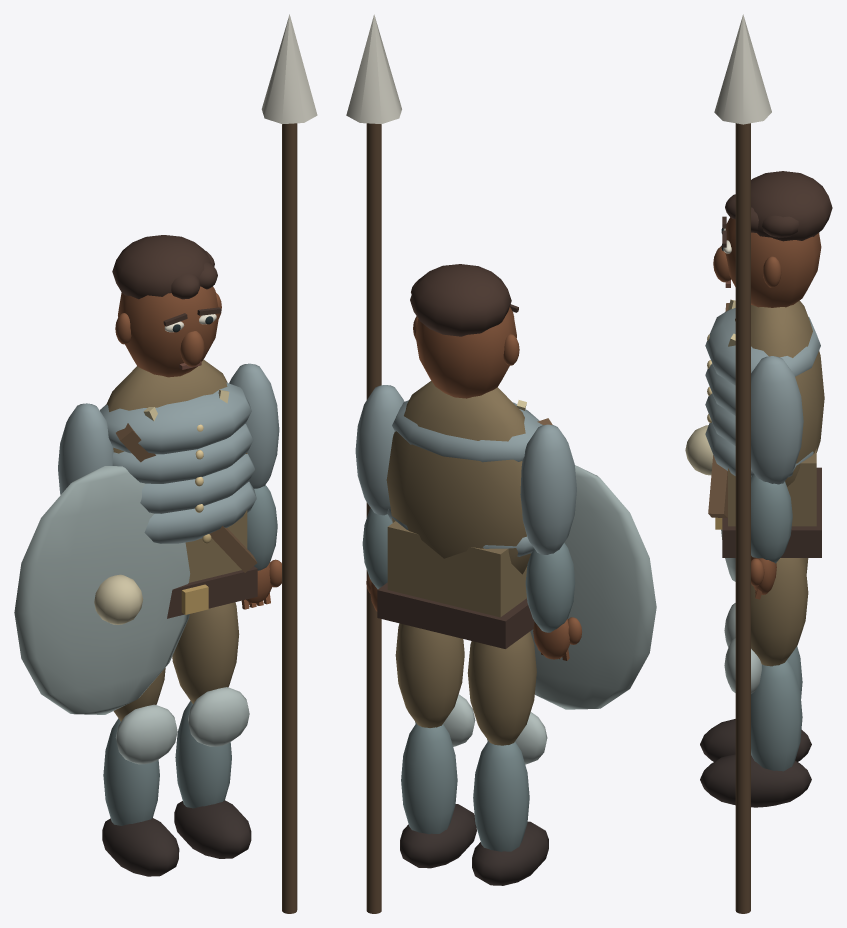
Rendered from hunter.glb.
3 renders of one model, left to right at view 1: azimuth 30°, elevation 25°; view 2: azimuth 150°, elevation 25°; view 3: azimuth 270°, elevation 25°, orthographic.
Parts seen in each view (by area): view 1: forearm_and_fingers_metal, shin_and_foot_stone (×2), hunter_13_metal, spear_stone, face_and_hair_stone, hunter_13_stone, upper_arm_metal (×2), thigh_metal (×2), forearm_and_fingers_stone; view 2: hunter_13_stone, shin_and_foot_stone (×2), forearm_and_fingers_metal, spear_stone, thigh_metal (×2), face_and_hair_stone, upper_arm_metal (×2), forearm_and_fingers_stone (×2), hunter_13_metal; view 3: spear_stone, shin_and_foot_stone (×2), face_and_hair_stone, hunter_13_stone, upper_arm_metal, hunter_13_metal, thigh_metal, forearm_and_fingers_stone, forearm_and_fingers_metal.
Part boxes in pixels (box(x1,y1,x2,y2)): forearm_and_fingers_metal: box(14, 466, 190, 714); shin_and_foot_stone (×2): box(102, 687, 251, 876); hunter_13_metal: box(100, 382, 256, 614); spear_stone: box(261, 14, 317, 913); face_and_hair_stone: box(112, 235, 221, 377); hunter_13_stone: box(106, 359, 257, 618); upper_arm_metal (×2): box(58, 363, 279, 494); thigh_metal (×2): box(113, 602, 239, 721); forearm_and_fingers_stone: box(241, 485, 281, 609); hunter_13_stone: box(377, 381, 552, 648); shin_and_foot_stone (×2): box(400, 694, 548, 885); forearm_and_fingers_metal: box(530, 465, 656, 709); spear_stone: box(346, 14, 401, 913); thigh_metal (×2): box(395, 623, 536, 745); face_and_hair_stone: box(410, 264, 519, 398); upper_arm_metal (×2): box(355, 385, 576, 554); forearm_and_fingers_stone (×2): box(362, 508, 581, 660); hunter_13_metal: box(387, 400, 542, 556); spear_stone: box(714, 14, 771, 913); shin_and_foot_stone (×2): box(700, 603, 811, 807); face_and_hair_stone: box(713, 171, 832, 307); hunter_13_stone: box(708, 299, 824, 557); upper_arm_metal: box(751, 356, 803, 484); hunter_13_metal: box(705, 308, 820, 529); thigh_metal: box(751, 558, 808, 666); forearm_and_fingers_stone: box(751, 474, 792, 599); forearm_and_fingers_metal: box(685, 425, 735, 581).
Size of the model in its own units: 0.97 by 2.74 by 0.407.
